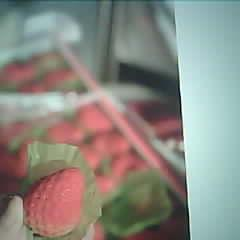straw-ripe: (23, 168, 85, 237)
